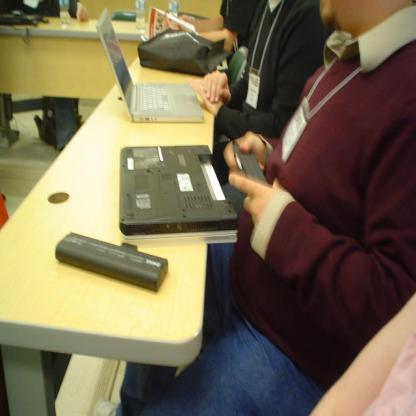board: (94, 6, 206, 124), (136, 0, 145, 36), (60, 0, 70, 27), (170, 2, 178, 20)
